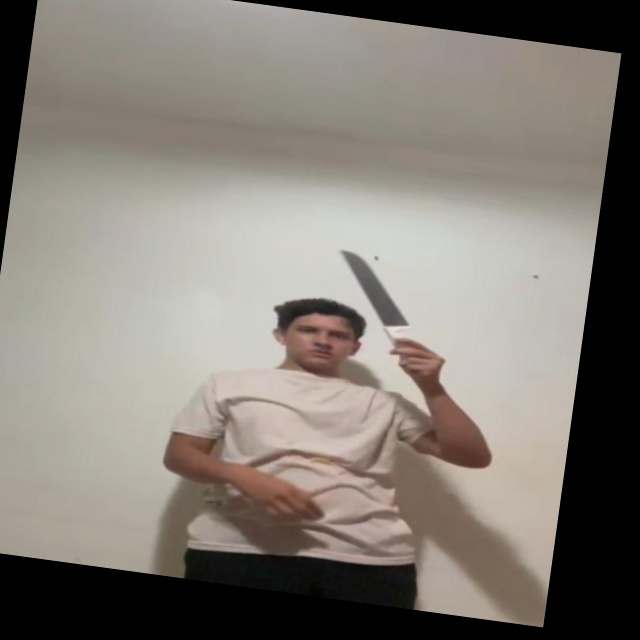Sharp-Object: (332, 246, 415, 324)
